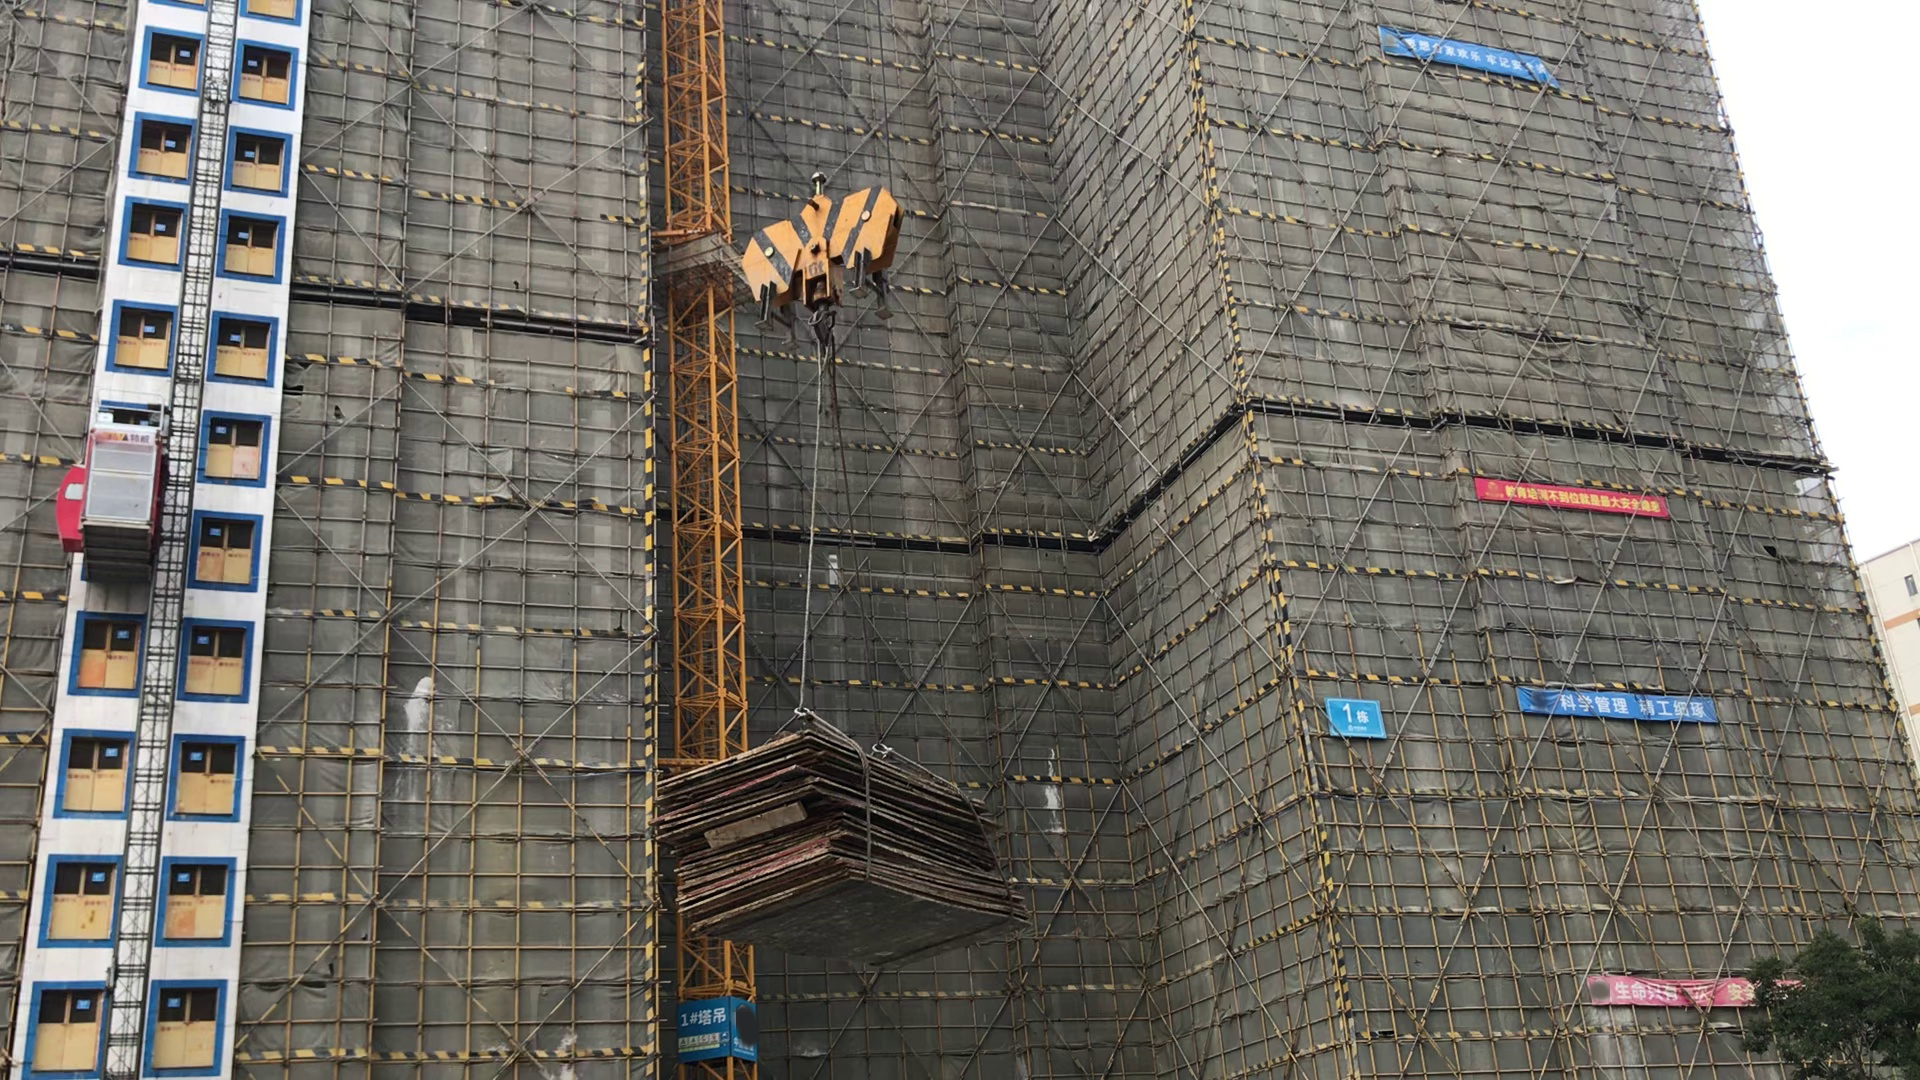board: (655, 731, 1031, 978)
hook: (742, 185, 902, 353)
slogan: (1379, 22, 1557, 88), (1472, 469, 1672, 517), (1514, 683, 1724, 725), (1585, 972, 1816, 1004), (679, 1036, 723, 1050)
